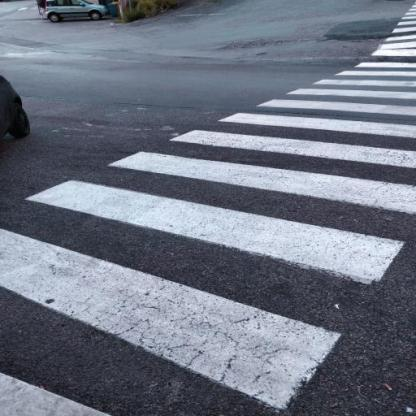crosswalk: (0, 146, 414, 284)
